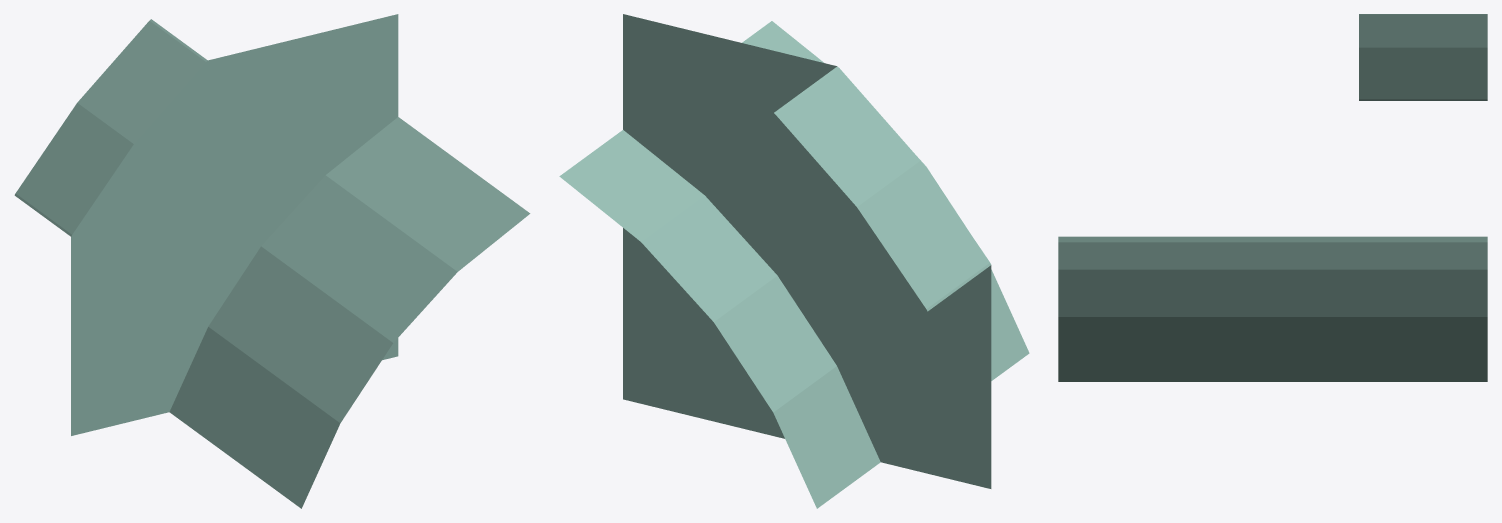
Rendered from cell_146.obj.
3 renders of one model, left to right at view 1: azimuth 30°, elevation 25°; view 2: azimuth 150°, elevation 25°; view 3: azimuth 270°, elevation 25°, orthographic. The views are drawn at different scales.
Bounding box in the file's own units: 1 × 1 × 1.
